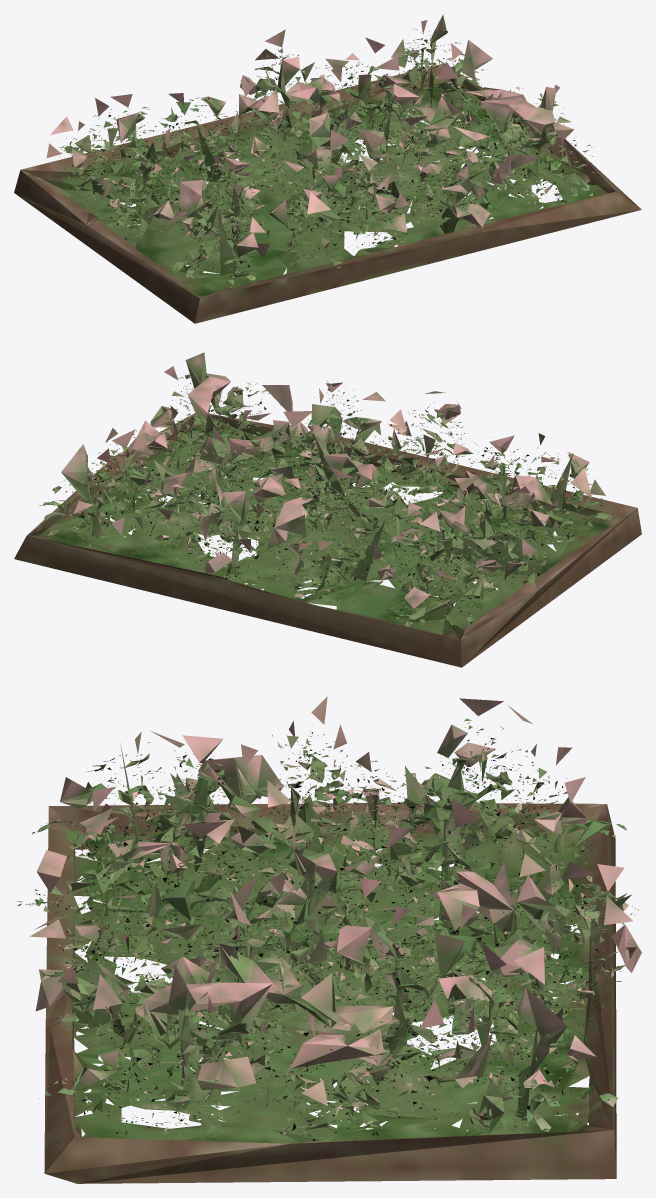
The model's file is Pink_Rose_Garden_in_a.fbx.
3 renders of one model, top to bottom at view 1: azimuth 30°, elevation 25°; view 2: azimuth 150°, elevation 25°; view 3: azimuth 270°, elevation 25°, orthographic. The views are drawn at different scales.
Visible parts, largest first — view 1: Pink_Rose_Garden_in_a_LOD0; view 2: Pink_Rose_Garden_in_a_LOD0; view 3: Pink_Rose_Garden_in_a_LOD0.
Boxes of the visible parts, x1,y1,x2,y2 form: Pink_Rose_Garden_in_a_LOD0: (14, 14, 641, 323); Pink_Rose_Garden_in_a_LOD0: (14, 352, 641, 667); Pink_Rose_Garden_in_a_LOD0: (16, 696, 641, 1183).
Size of what is drawn, in the model's own units: 1.88 by 0.4586 by 1.44.
Materials: 1 (1 with a texture image).
